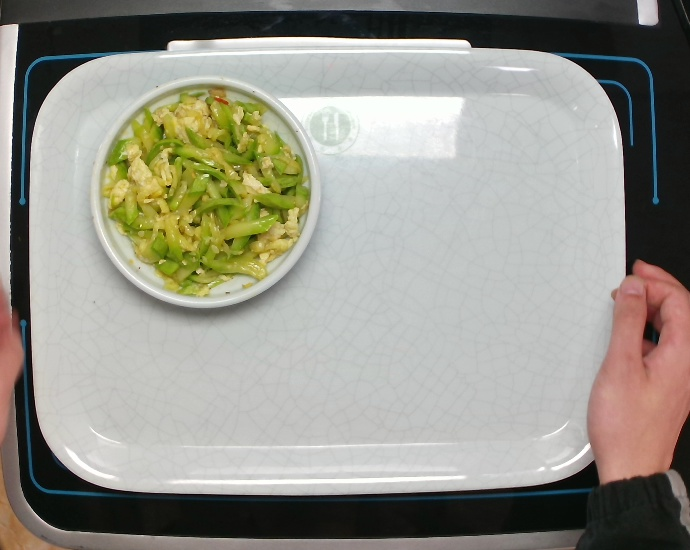JYsf-Xiao_Yuan_Pan: (85, 68, 331, 320)
